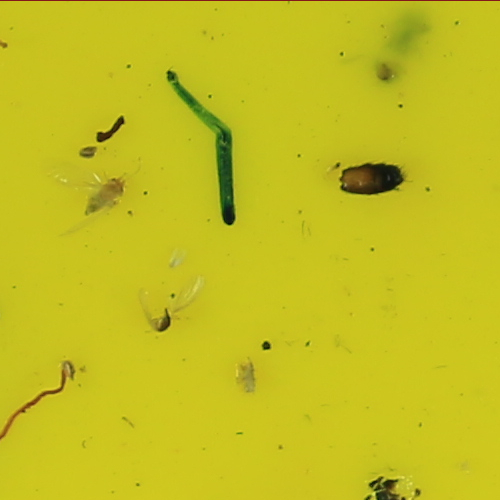Glycaspis: (83, 171, 128, 217)
